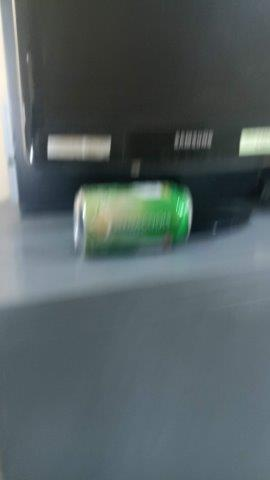kaleng: (76, 182, 196, 255)
